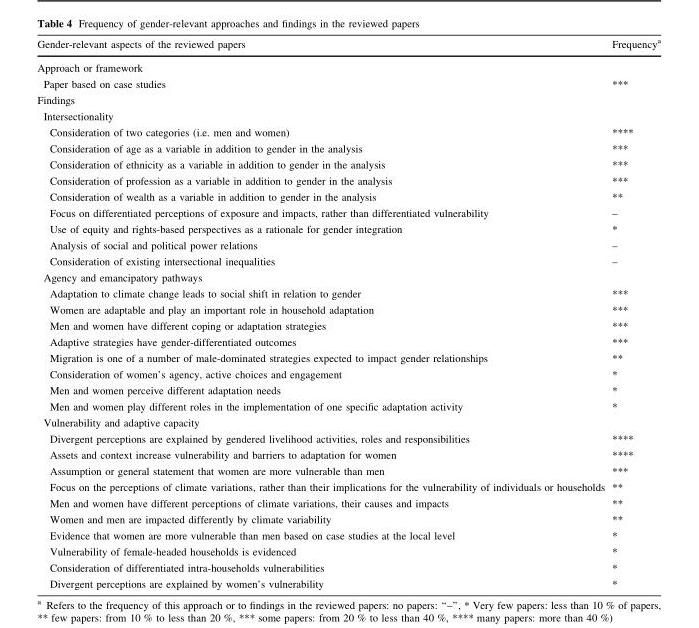table: (36, 37, 660, 589)
table column: (36, 37, 607, 589), (607, 37, 660, 589)
table column header: (36, 37, 660, 56)
table projected row header: (36, 56, 660, 76), (36, 92, 660, 108), (36, 108, 660, 124), (36, 269, 660, 285), (36, 414, 660, 430)
table row: (36, 56, 660, 76), (36, 37, 660, 56), (36, 188, 660, 205), (36, 317, 660, 334), (36, 446, 660, 463), (36, 76, 660, 92), (36, 92, 660, 108), (36, 108, 660, 124), (36, 124, 660, 140), (36, 140, 660, 156), (36, 156, 660, 172), (36, 172, 660, 188), (36, 205, 660, 221), (36, 221, 660, 237), (36, 237, 660, 253), (36, 253, 660, 269), (36, 269, 660, 285), (36, 285, 660, 301), (36, 301, 660, 317), (36, 334, 660, 350), (36, 350, 660, 366), (36, 366, 660, 382), (36, 382, 660, 398), (36, 398, 660, 414), (36, 414, 660, 430), (36, 430, 660, 446), (36, 463, 660, 479), (36, 479, 660, 495), (36, 495, 660, 511), (36, 511, 660, 527), (36, 527, 660, 543), (36, 543, 660, 559), (36, 559, 660, 575), (36, 575, 660, 589)
